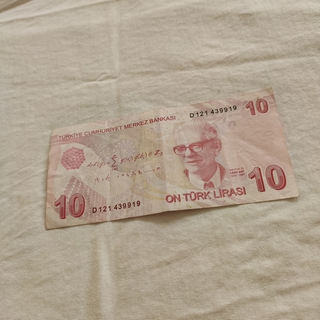10TLBack: (44, 86, 300, 230)
